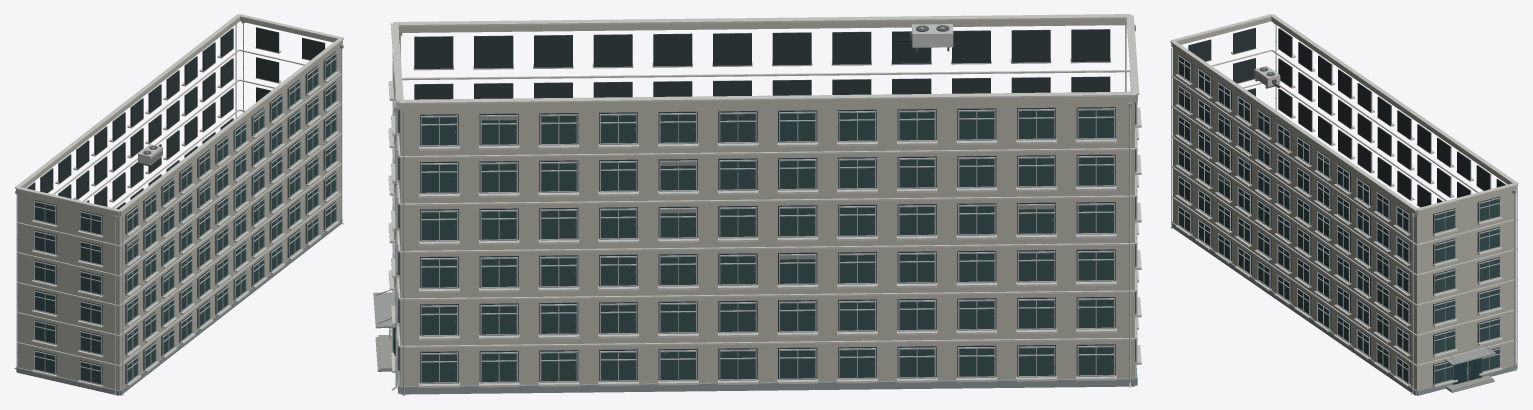
Rendered from osm_way_225265337.glb.
The picture shows the model from 3 angles, left to right: view 1: azimuth 30°, elevation 25°; view 2: azimuth 150°, elevation 25°; view 3: azimuth 270°, elevation 25°; orthographic projection. The views are drawn at different scales.
Visible parts, largest first — view 1: Windows and facade details | 青教公寓, Architecture | 青教公寓, Roof services | 青教公寓, EXTERIOR::osm_way_225265337::rainwater and roof service deta; view 2: Windows and facade details | 青教公寓, Architecture | 青教公寓, Roof services | 青教公寓, EXTERIOR::osm_way_225265337::rainwater and roof service deta, EXTERIOR::osm_way_225265337::inferred entry doors canopy and, EXTERIOR::osm_way_225265337::native pane seals and hardware; view 3: Windows and facade details | 青教公寓, Architecture | 青教公寓, Roof services | 青教公寓, EXTERIOR::osm_way_225265337::inferred entry doors canopy and, EXTERIOR::osm_way_225265337::rainwater and roof service deta.
Boxes of the visible parts, x1=… form: Windows and facade details | 青教公寓: x1=26, y1=24, x2=339, y2=395; Architecture | 青教公寓: x1=16, y1=17, x2=342, y2=395; Roof services | 青教公寓: x1=15, y1=14, x2=343, y2=212; EXTERIOR::osm_way_225265337::rainwater and roof service deta: x1=14, y1=22, x2=344, y2=395; Windows and facade details | 青教公寓: x1=388, y1=25, x2=1141, y2=395; Architecture | 青教公寓: x1=394, y1=18, x2=1137, y2=394; Roof services | 青教公寓: x1=390, y1=14, x2=1139, y2=104; EXTERIOR::osm_way_225265337::rainwater and roof service deta: x1=391, y1=24, x2=1135, y2=390; EXTERIOR::osm_way_225265337::inferred entry doors canopy and: x1=373, y1=290, x2=397, y2=371; EXTERIOR::osm_way_225265337::native pane seals and hardware: x1=455, y1=116, x2=1112, y2=369; Windows and facade details | 青教公寓: x1=1171, y1=28, x2=1517, y2=387; Architecture | 青教公寓: x1=1171, y1=17, x2=1517, y2=395; Roof services | 青教公寓: x1=1170, y1=14, x2=1518, y2=211; EXTERIOR::osm_way_225265337::inferred entry doors canopy and: x1=1444, y1=344, x2=1495, y2=392; EXTERIOR::osm_way_225265337::rainwater and roof service deta: x1=1254, y1=23, x2=1516, y2=394.
Size of the model in its own units: 44.72 by 20.58 by 33.5.
